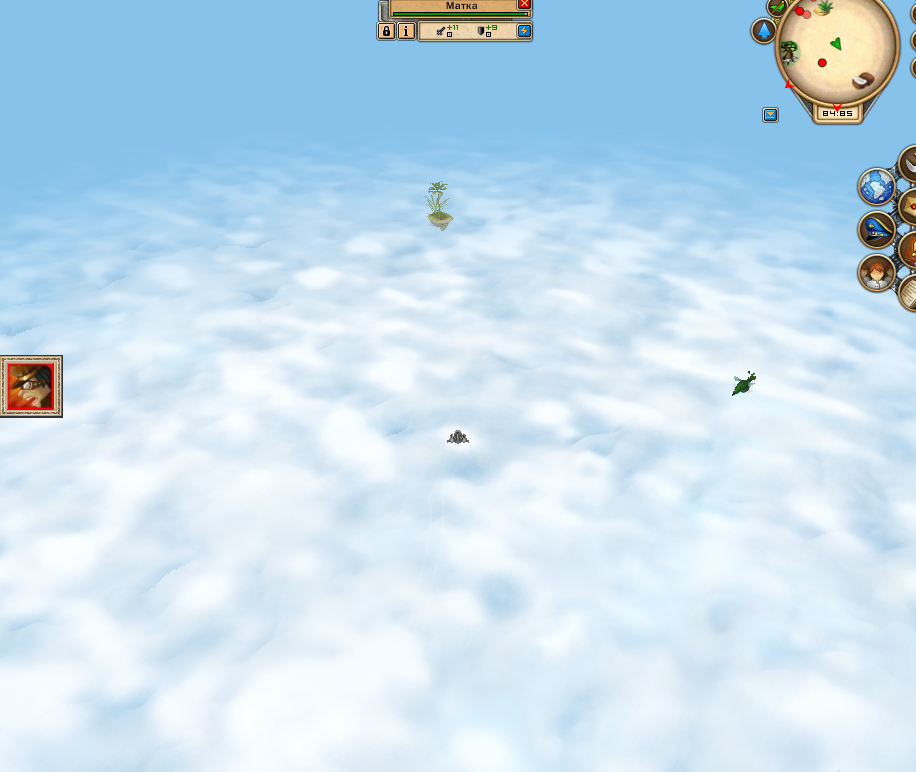palm: (421, 179, 457, 233)
